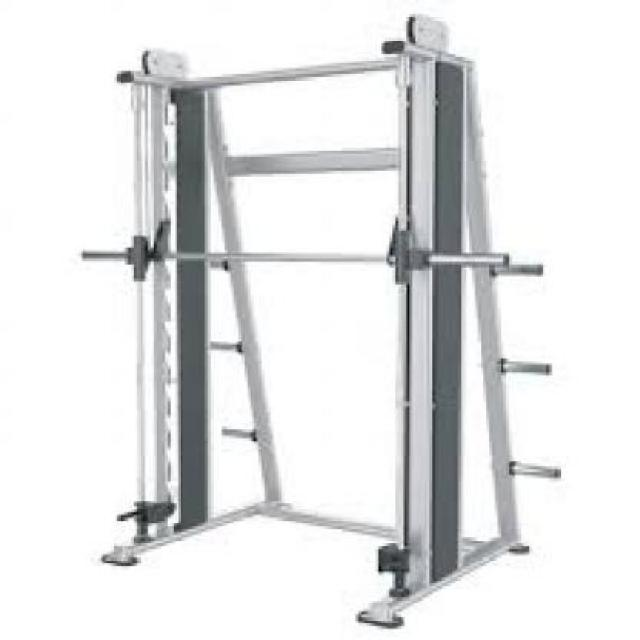smith machine: (83, 10, 560, 628)
